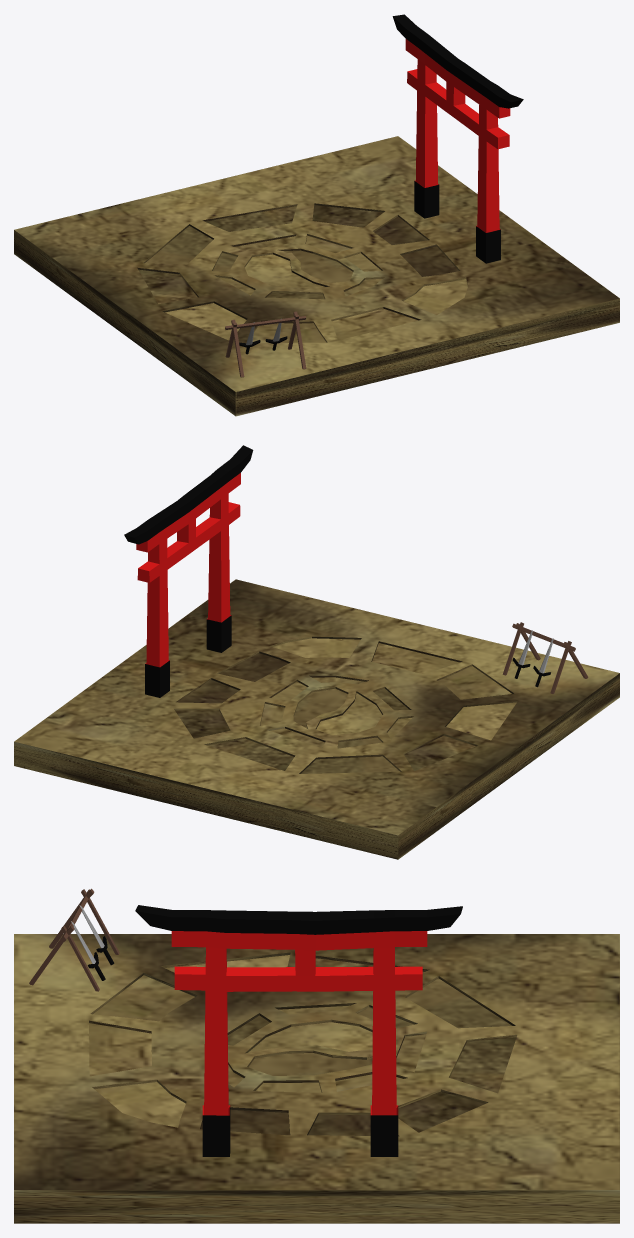
The model's file is AssetsWt.fbx.
3 views of the same model, one above another, from view 1: azimuth 30°, elevation 25°; view 2: azimuth 150°, elevation 25°; view 3: azimuth 270°, elevation 25° (orthographic). The views are drawn at different scales.
Visible parts, largest first — view 1: Cube.010; view 2: Cube.010; view 3: Cube.010.
Boxes of the visible parts, bbox=[...] form: Cube.010: bbox=[14, 14, 619, 416]; Cube.010: bbox=[14, 445, 619, 859]; Cube.010: bbox=[14, 888, 619, 1223].
Size of the model in its own units: 1042 by 527 by 1042.
